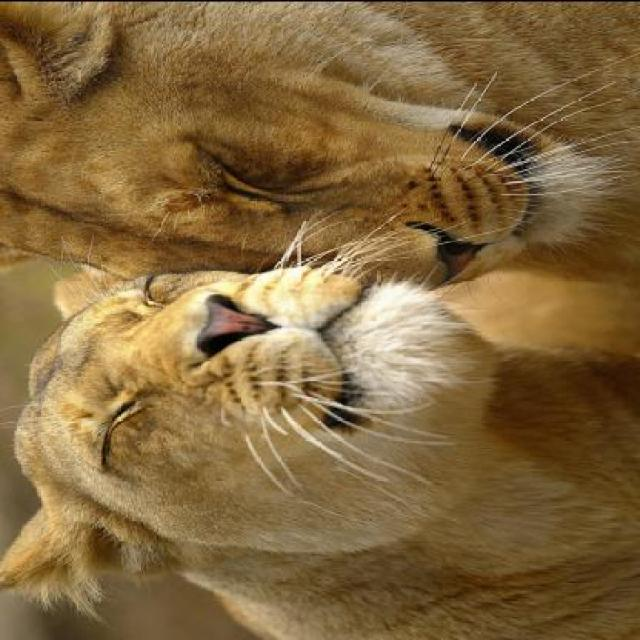Lion: (9, 268, 638, 624), (0, 3, 637, 280)
